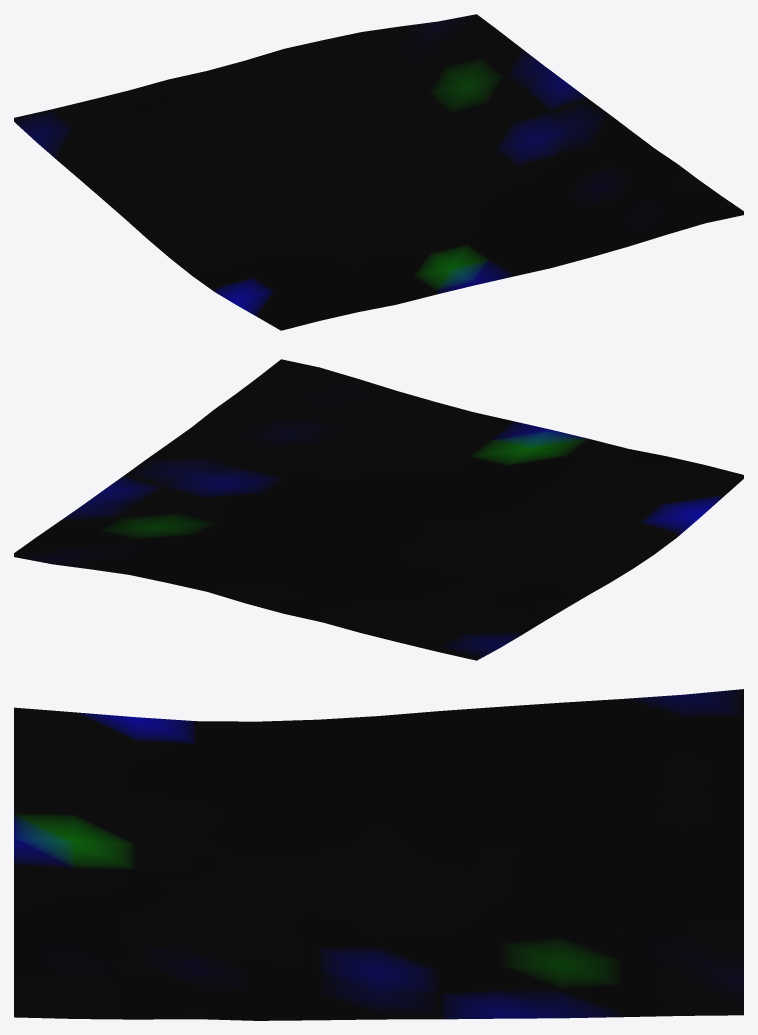
The model's file is coast_9_3.glb.
3 views of the same model, one above another, from view 1: azimuth 30°, elevation 25°; view 2: azimuth 150°, elevation 25°; view 3: azimuth 270°, elevation 25° (orthographic). The views are drawn at different scales.
Parts seen in each view (by area): view 1: terrain; view 2: terrain; view 3: terrain.
Boxes of the visible parts, x1=… form: terrain: x1=14, y1=14, x2=743, y2=330; terrain: x1=14, y1=359, x2=743, y2=660; terrain: x1=14, y1=689, x2=743, y2=1020.
Size of the model in its own units: 192 by 12.2 by 192.
